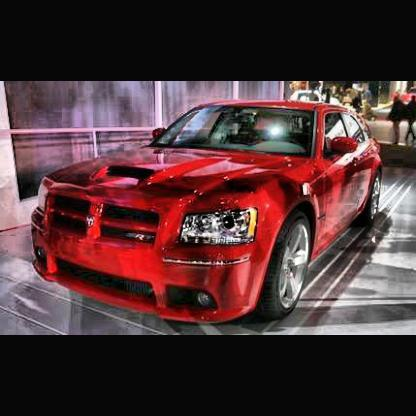Dodge Magnum Wagon 2008: (26, 97, 384, 329)
